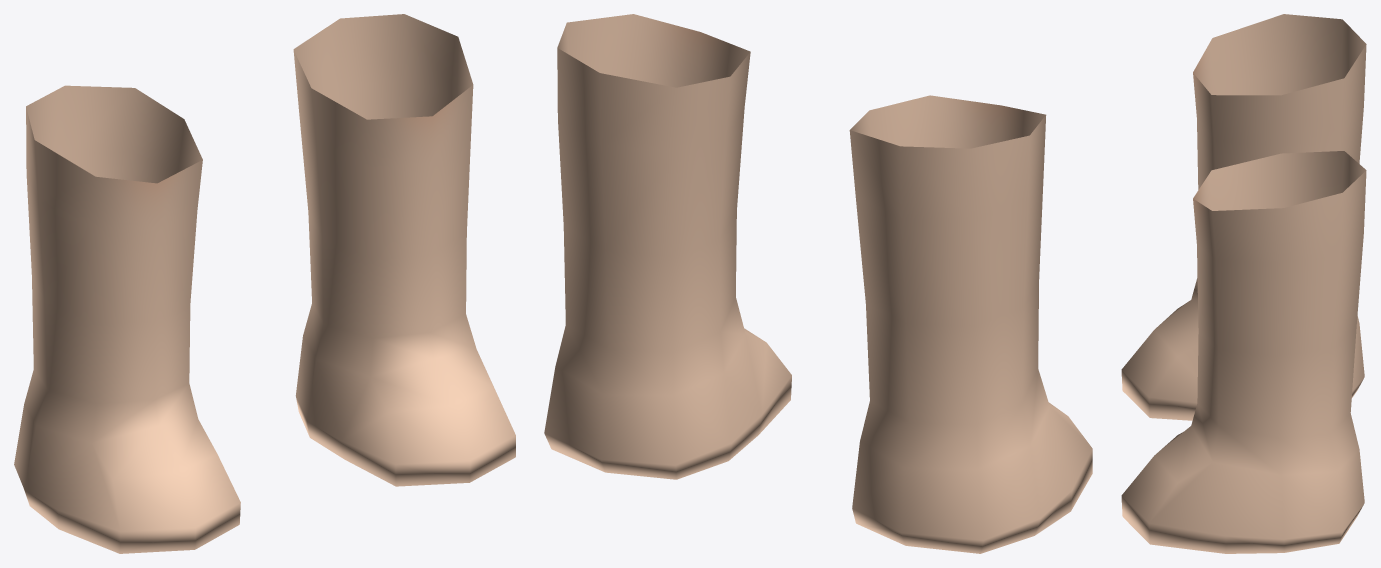
File: Body_White_LegA_1.fbx
3 views of the same model, side by side, from view 1: azimuth 30°, elevation 25°; view 2: azimuth 150°, elevation 25°; view 3: azimuth 270°, elevation 25° (orthographic). The views are drawn at different scales.
Visible parts, largest first — view 1: Body_White_LegA_1; view 2: Body_White_LegA_1; view 3: Body_White_LegA_1.
Boxes of the visible parts, x1,y1,x2,y2 form: Body_White_LegA_1: (14,14,515,553); Body_White_LegA_1: (544,14,1092,553); Body_White_LegA_1: (1121,14,1366,553).
Bounding box in the file's own units: 32.81 × 26.18 × 16.71.
